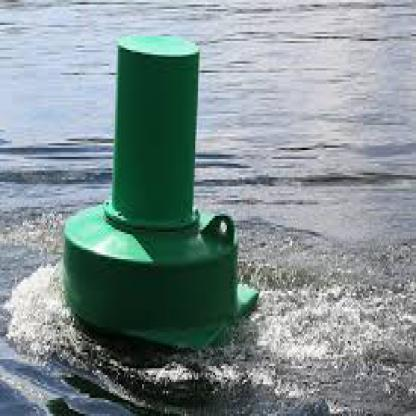buoy: (59, 25, 268, 355)
